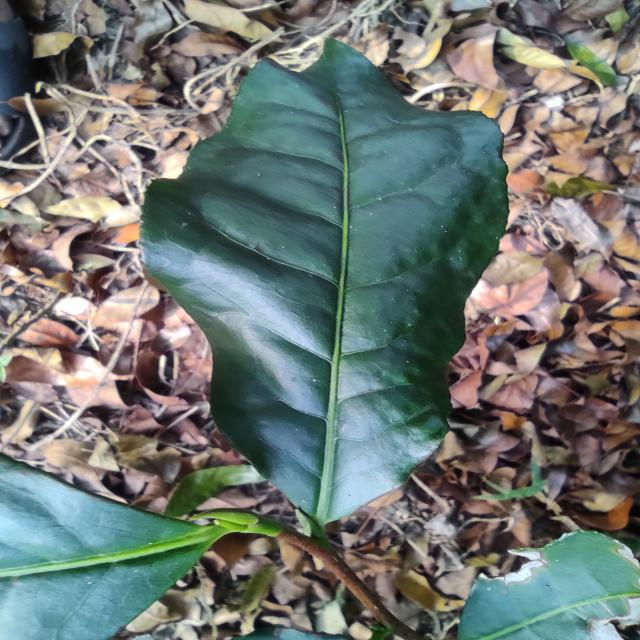Category D(7+ days, Not for Tea): (115, 25, 531, 532)
